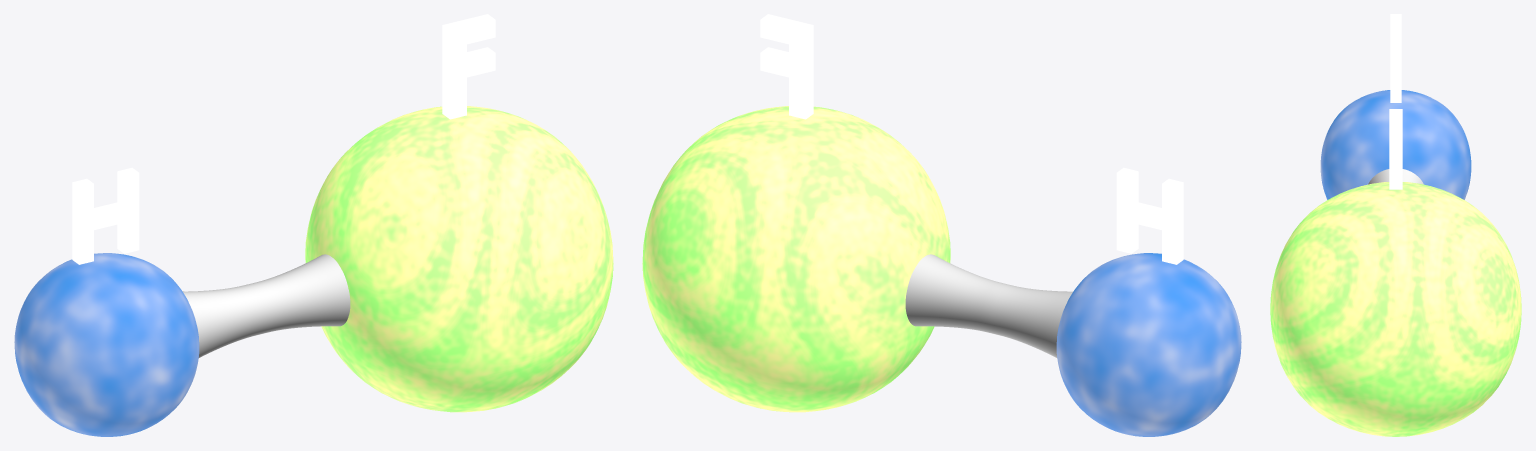
3 renders of one model, left to right at view 1: azimuth 30°, elevation 25°; view 2: azimuth 150°, elevation 25°; view 3: azimuth 270°, elevation 25°, orthographic. The views are drawn at different scales.
Parts seen in each view (by area): view 1: Text.002, Text; view 2: Text.002, Text; view 3: Text.002, Text.
Boxes of the visible parts, x1,y1,x2,y2 form: Text.002: (14,106,613,436); Text: (442,14,495,119); Text.002: (642,106,1241,436); Text: (760,14,813,119); Text.002: (1270,14,1521,436); Text: (1389,109,1402,189).
Size of the model in its own units: 5.2 by 3.28 by 2.42.
Materials: 4 (2 with a texture image).
